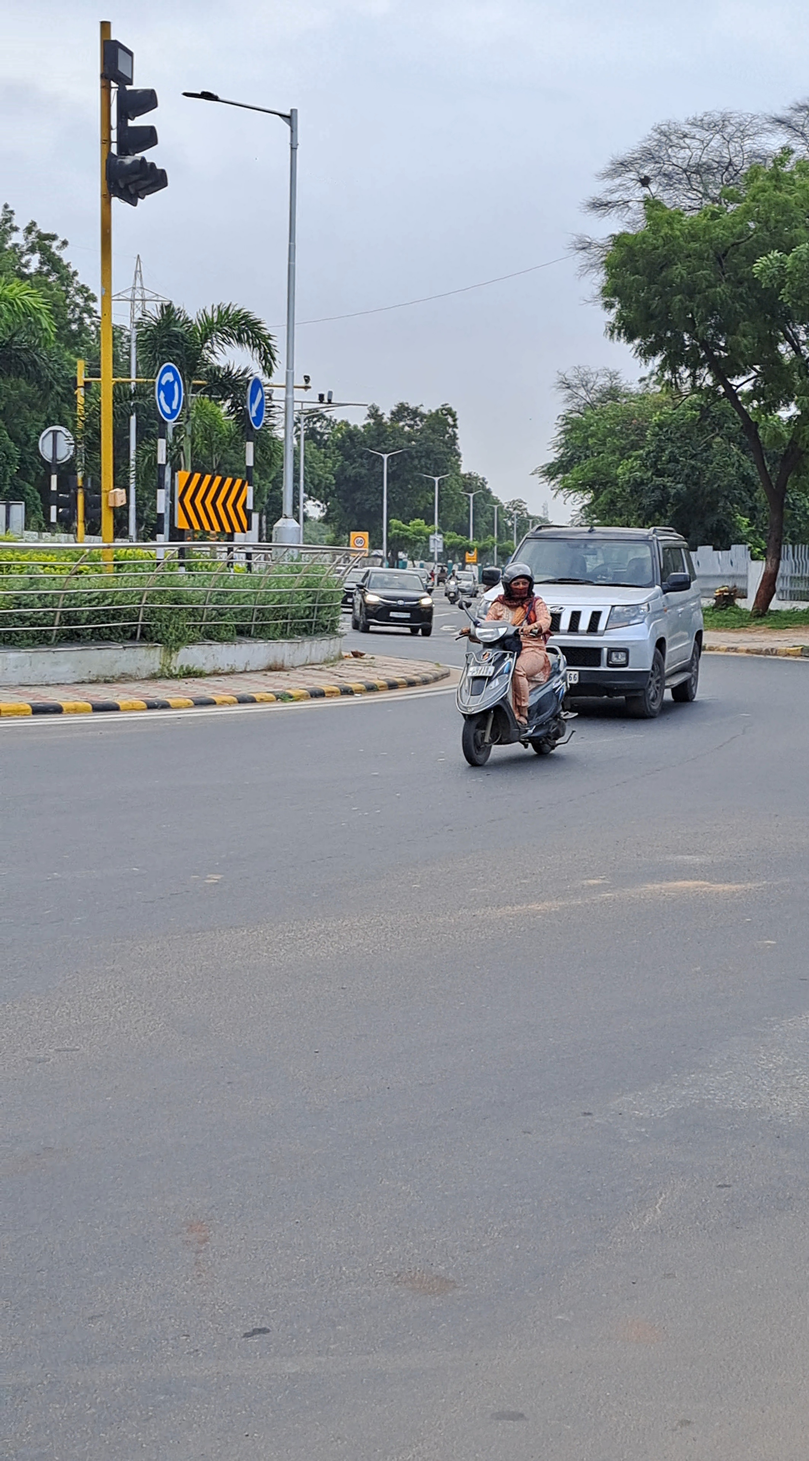BikeWithRider: (454, 558, 579, 770), (443, 569, 462, 605)
Helmet: (500, 559, 537, 601)
